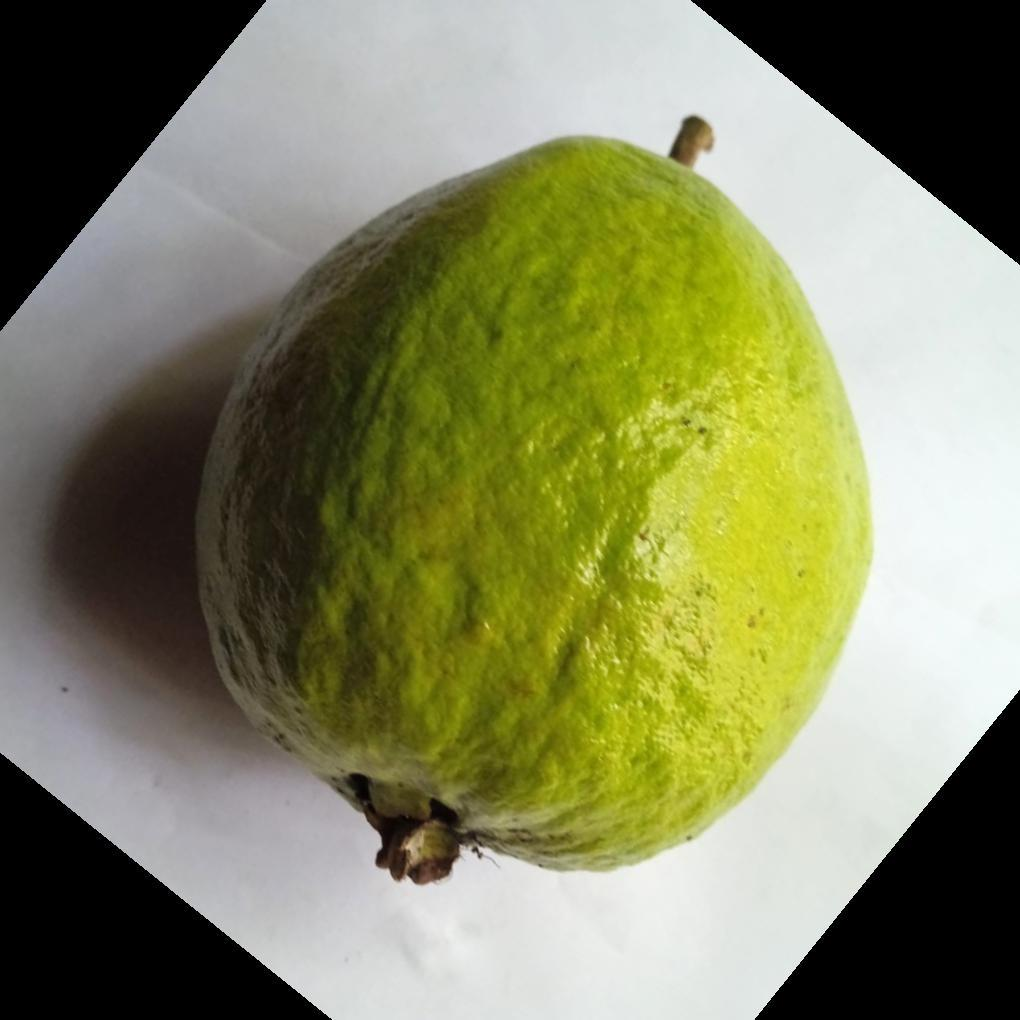FreshGuava: (192, 135, 875, 889)
